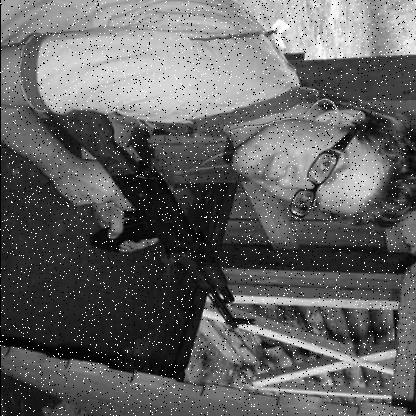rifle: (25, 101, 300, 347)
